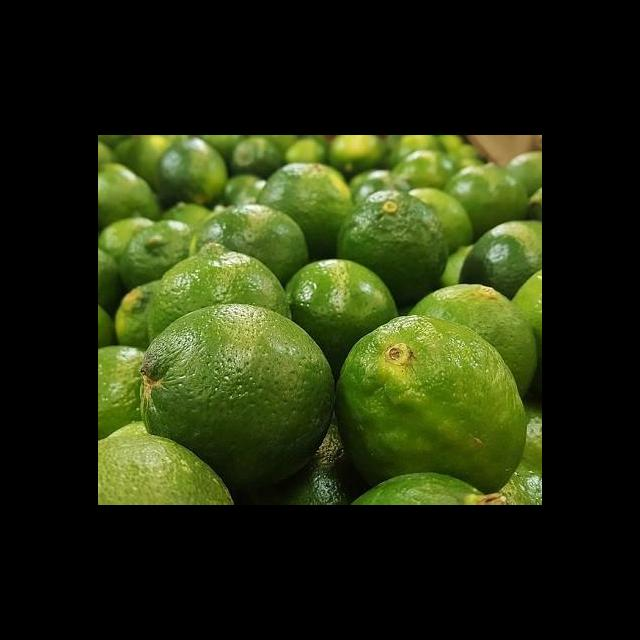lime: (140, 305, 336, 487), (334, 316, 527, 496), (410, 284, 542, 400), (336, 189, 453, 314), (146, 244, 291, 343), (286, 259, 399, 382), (98, 423, 234, 505), (255, 163, 354, 263), (192, 205, 311, 288), (106, 221, 197, 295), (456, 222, 542, 299), (98, 348, 144, 443)
